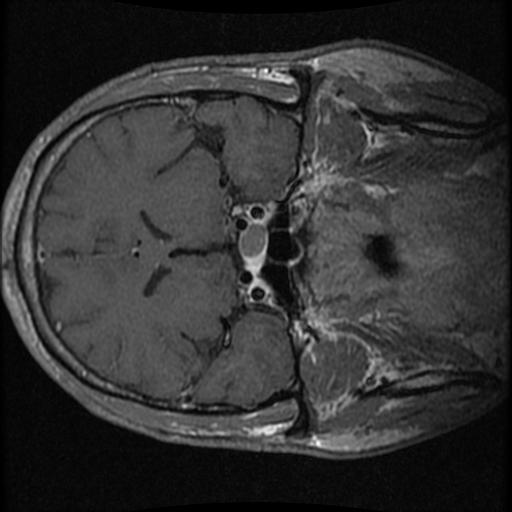pituitary tumour: (238, 223, 267, 273)
